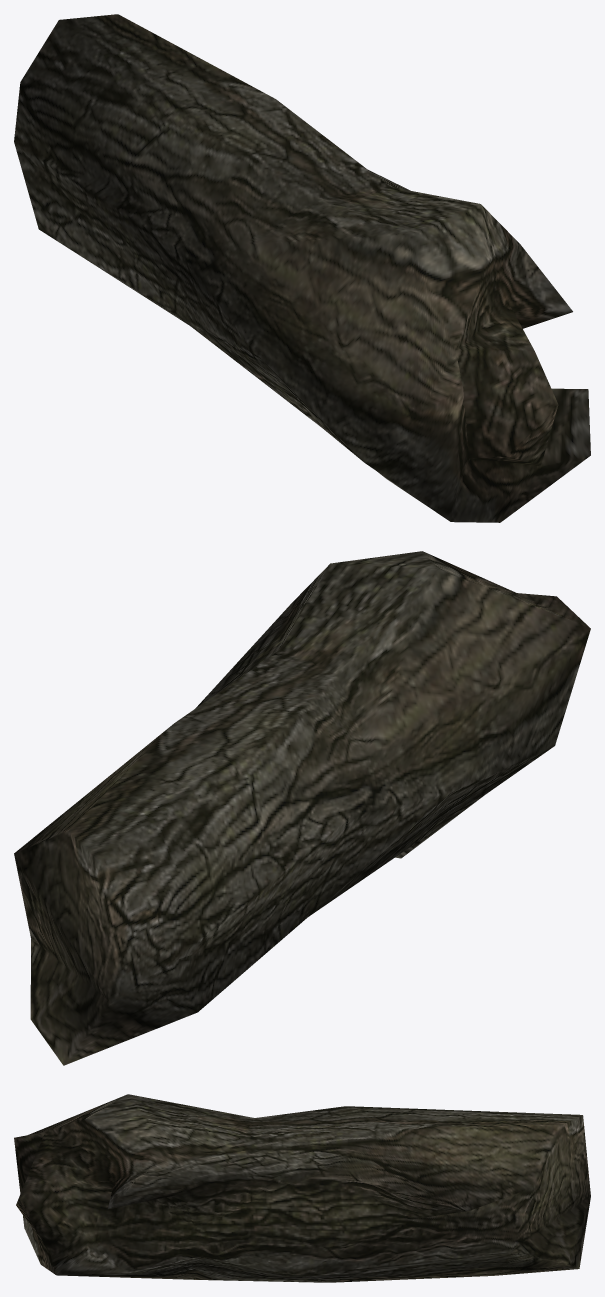
File: MEP_TreeTrunk.fbx
3 renders of one model, top to bottom at view 1: azimuth 30°, elevation 25°; view 2: azimuth 150°, elevation 25°; view 3: azimuth 270°, elevation 25°, orthographic. The views are drawn at different scales.
Visible parts, largest first — view 1: MEP_TreeTrunk; view 2: MEP_TreeTrunk; view 3: MEP_TreeTrunk.
Boxes of the visible parts, left/top/right/bottom form: MEP_TreeTrunk: left=14, top=14, right=590, bottom=522; MEP_TreeTrunk: left=14, top=551, right=590, bottom=1065; MEP_TreeTrunk: left=14, top=1094, right=590, bottom=1282.
Bounding box in the file's own units: 0.6901 × 0.7482 × 2.22.
